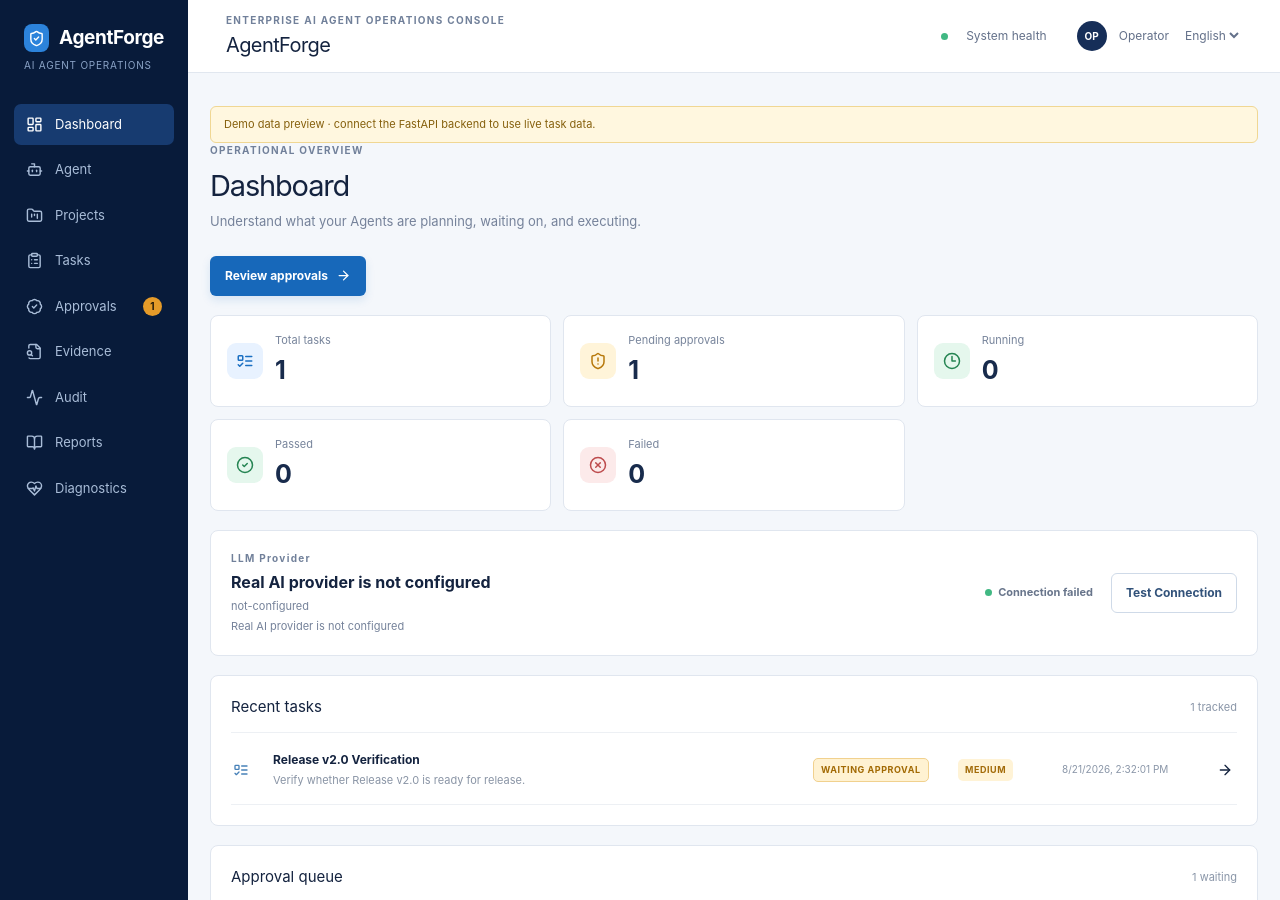
Test: AgentForge operations console › opens the approval center from the dashboard
Click the button "Review approvals": [288, 276] box [210, 256, 366, 296]
(page scrolled)
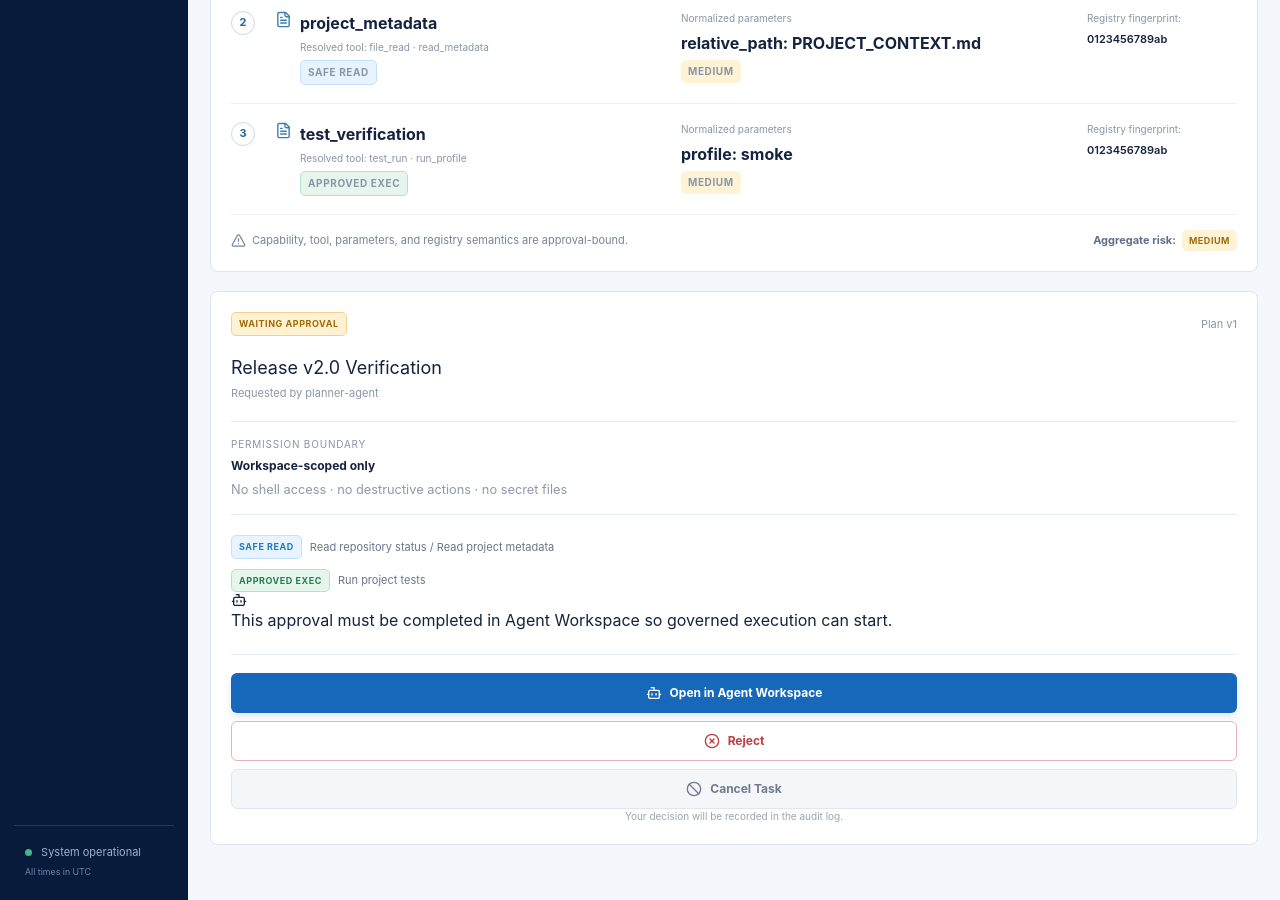
Now the text "test_verification" is shown, box [300, 124, 426, 144]
Now the text "Resolved tool: test_run · run_profile" is shown, box [300, 152, 466, 164]
Now the text "profile: smoke" is shown, box [681, 144, 793, 164]
